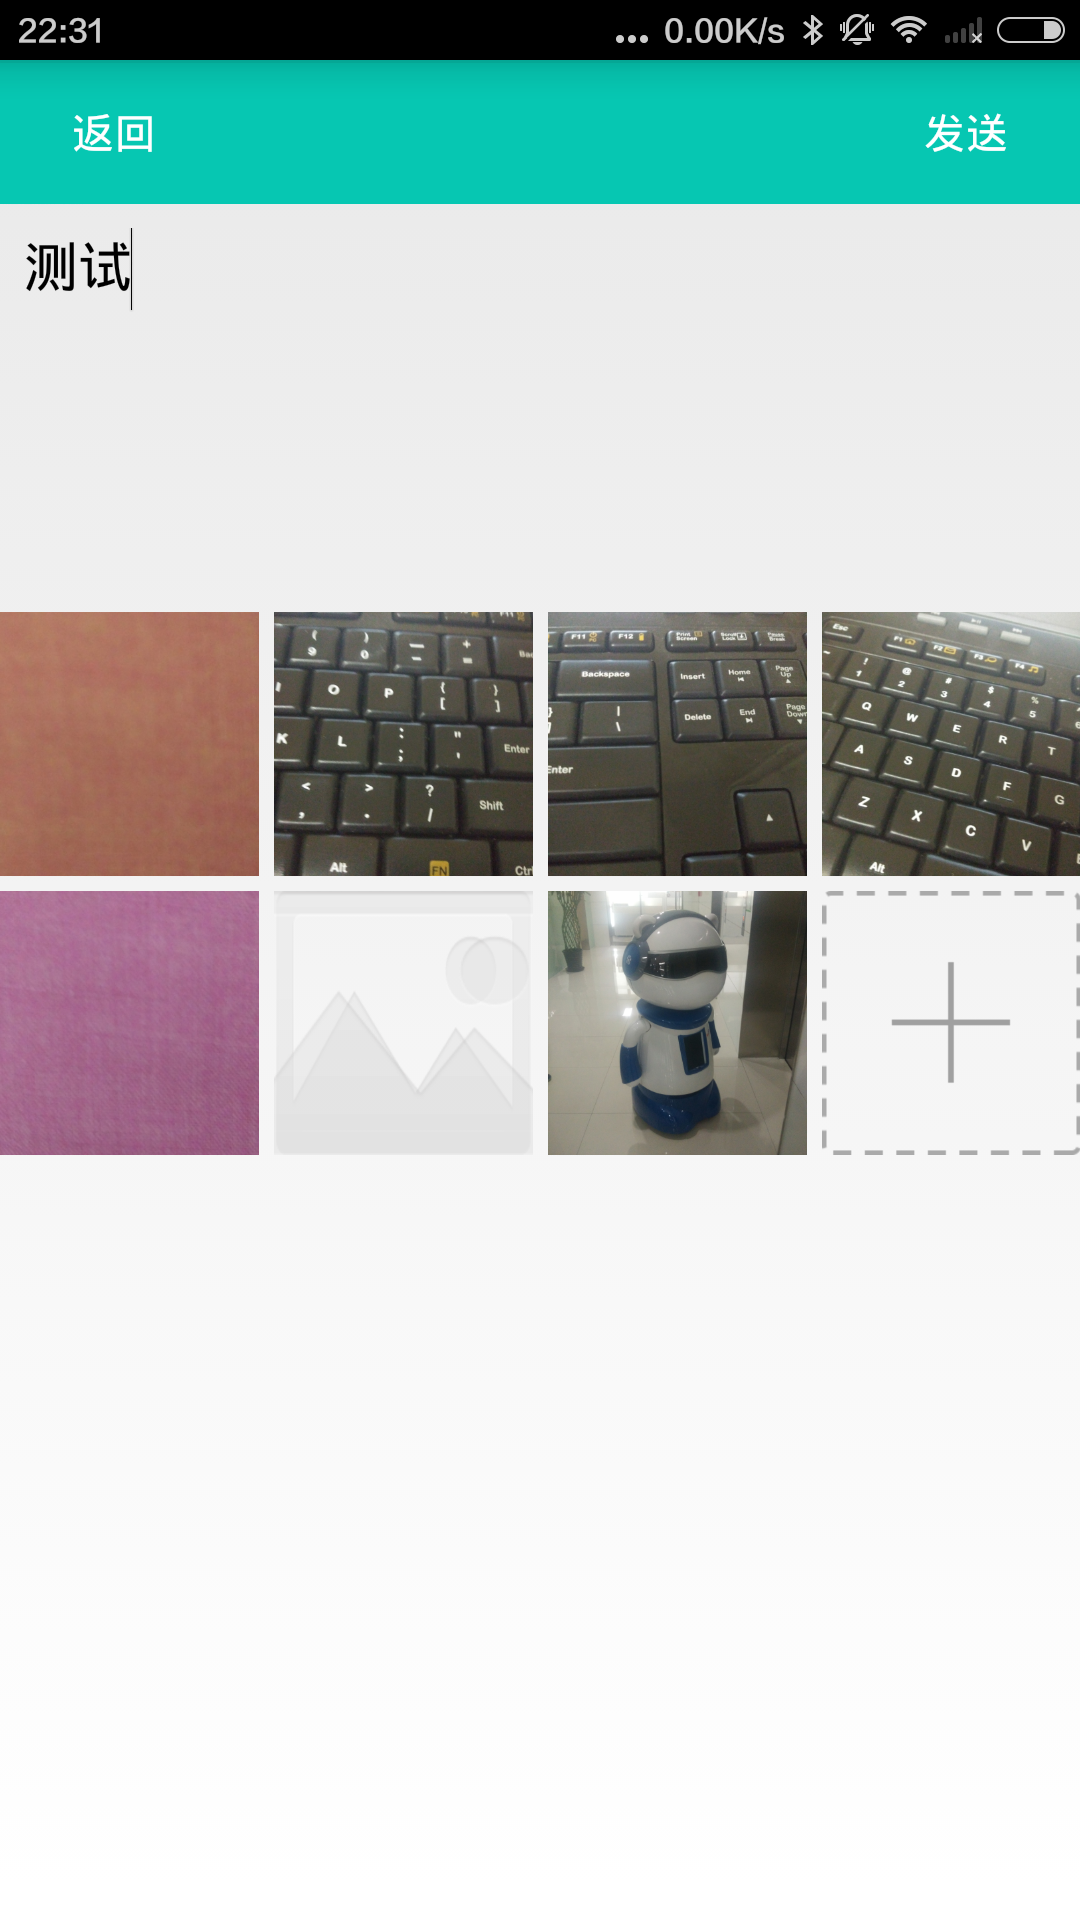imgview: (3, 595, 1080, 890)
textview: (8, 224, 1052, 556)
